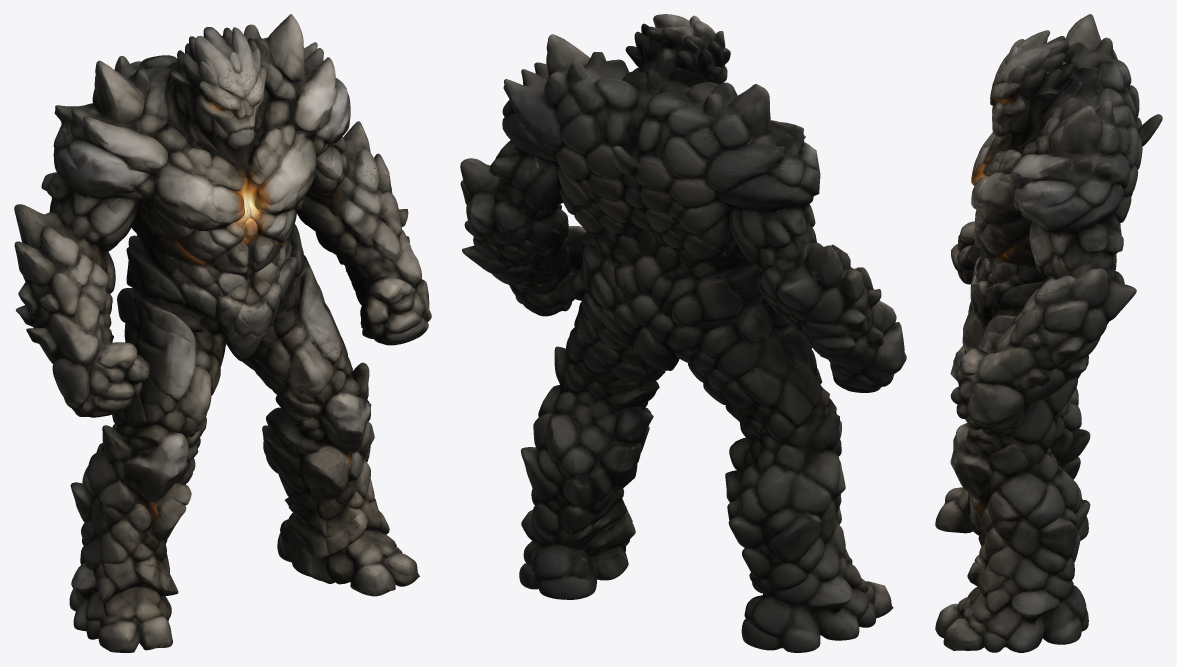
File: stone_golem.glb
3 renders of one model, left to right at view 1: azimuth 30°, elevation 25°; view 2: azimuth 150°, elevation 25°; view 3: azimuth 270°, elevation 25°, orthographic. The views are drawn at different scales.
Visible parts, largest first — view 1: material; view 2: material; view 3: material.
Boxes of the visible parts, bbox=[...] form: material: bbox=[14, 14, 431, 652]; material: bbox=[460, 14, 906, 652]; material: bbox=[935, 14, 1162, 652].
Size of the model in its own units: 0.7291 by 1.01 by 0.383.
1 material, 1 textured.
